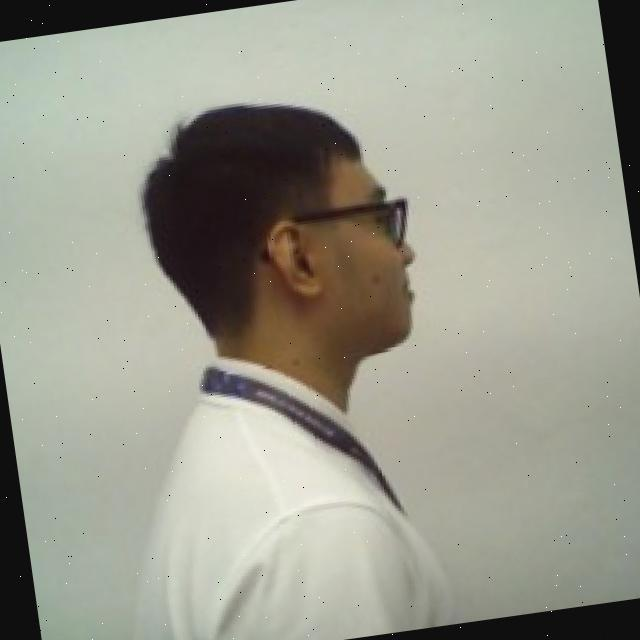no_gloves: (121, 80, 386, 322)
no_hairnet: (252, 198, 448, 386)
